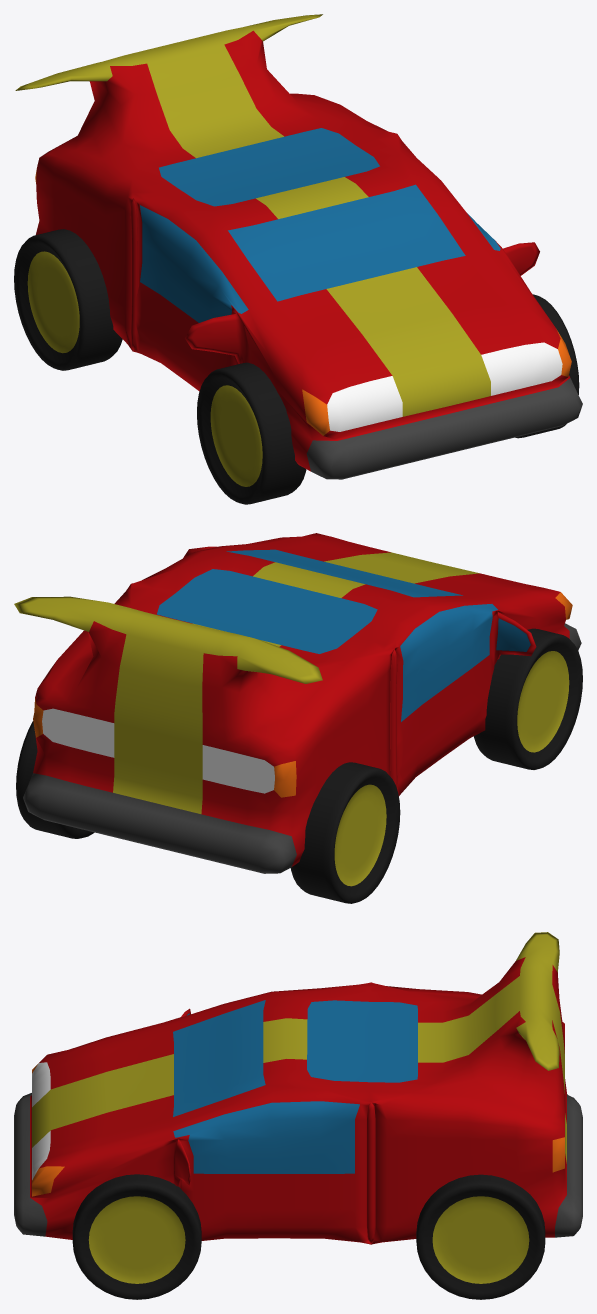
The model's file is VZ_Race_Car_Unity_No_Opacity.FBX.
The picture shows the model from 3 angles, top to bottom: view 1: azimuth 30°, elevation 25°; view 2: azimuth 150°, elevation 25°; view 3: azimuth 270°, elevation 25°; orthographic projection. The views are drawn at different scales.
Visible parts, largest first — view 1: Box001, Cylinder002, Cylinder001, Cylinder003; view 2: Box001, Cylinder001, Cylinder002, Cylinder004; view 3: Box001, Cylinder003, Cylinder004.
Part boxes in pixels (<box>): Box001: <box>15,14,582,479</box>; Cylinder002: <box>197,362,306,504</box>; Cylinder001: <box>14,229,122,370</box>; Cylinder003: <box>515,294,579,438</box>; Box001: <box>14,533,581,873</box>; Cylinder001: <box>290,762,400,903</box>; Cylinder002: <box>474,628,582,769</box>; Cylinder004: <box>16,721,94,838</box>; Box001: <box>14,932,582,1244</box>; Cylinder003: <box>72,1174,201,1299</box>; Cylinder004: <box>416,1174,545,1299</box>.
Bounding box in the file's own units: 77.36 × 54.17 × 116.
